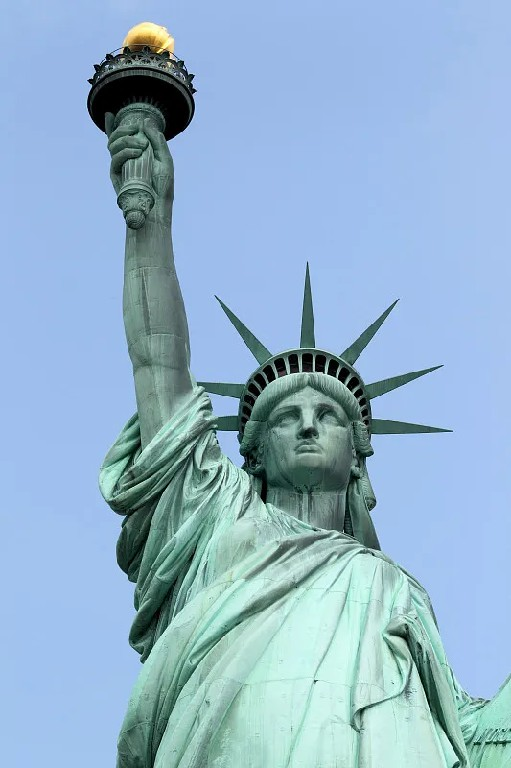SL: (87, 20, 511, 768)
